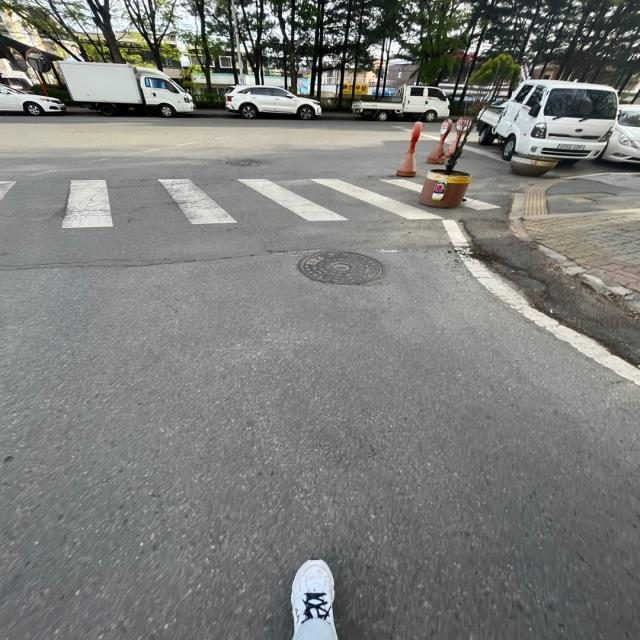Sewer Cover: (285, 246, 407, 303)
